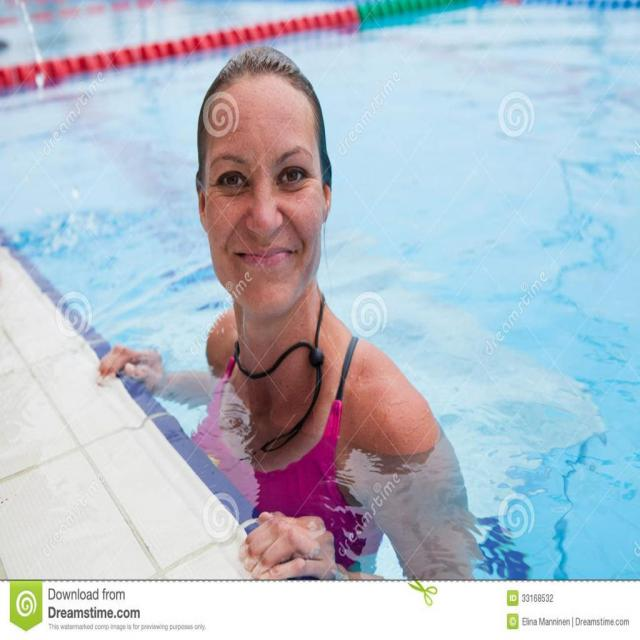nomask: (208, 109, 318, 318)
